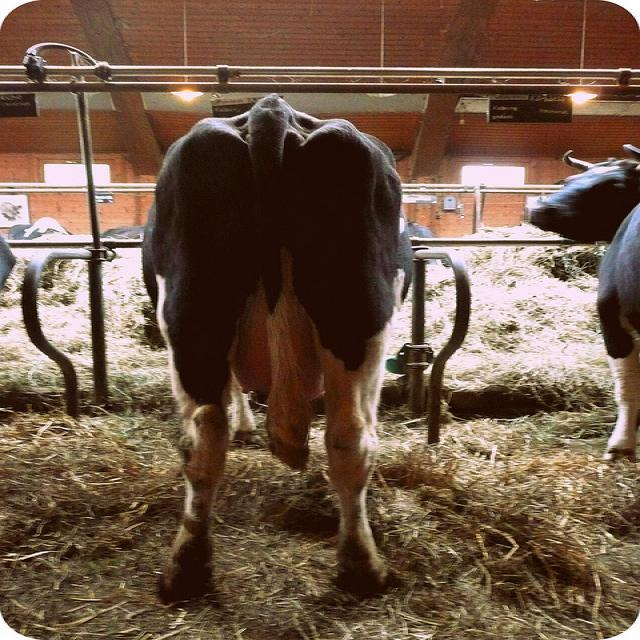cow: (135, 92, 413, 593), (525, 143, 639, 461), (4, 215, 73, 275), (404, 219, 433, 237)
